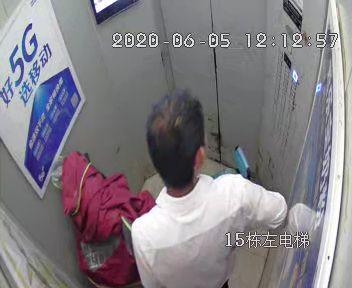Electric-bicycle: (57, 142, 253, 287)
